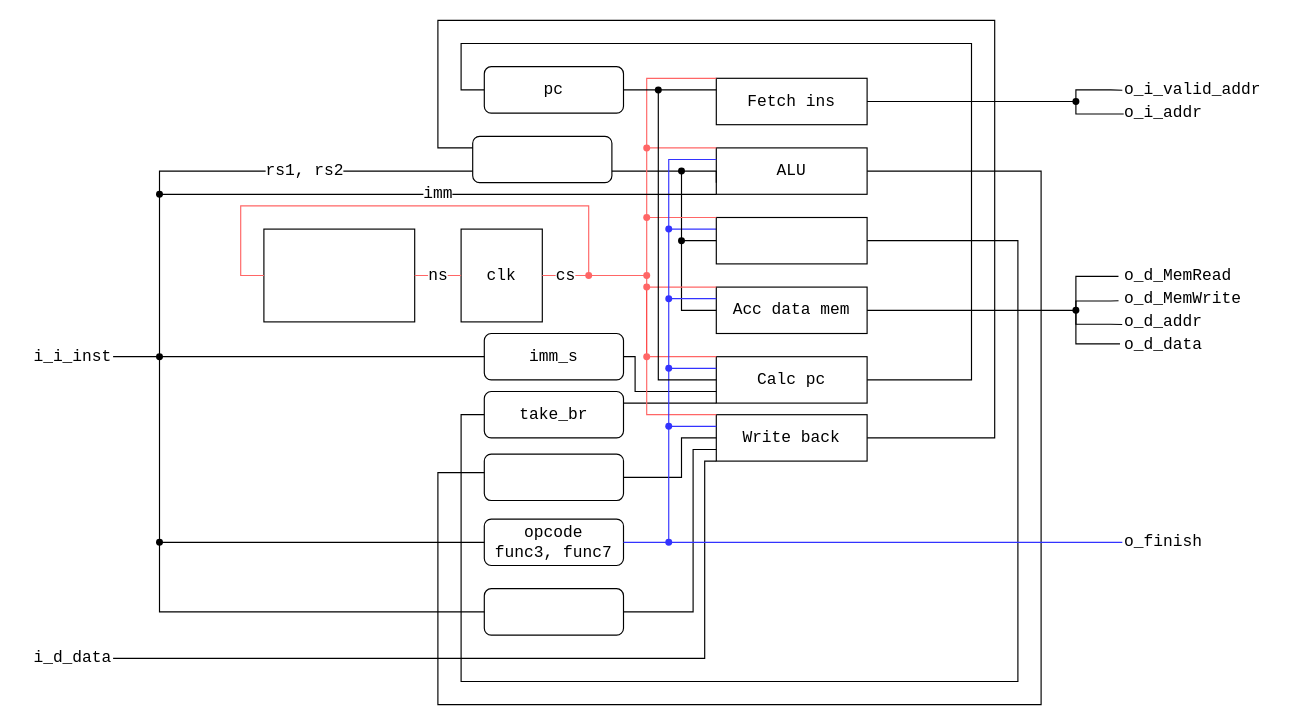
Some shapes in this 1292 by 726 pixel diagram are drawn without their labels. The shapes that lost their labels are listed below. From the top down, each one's centre as x and y in pixels, then its label:
At point 542,159: "reg_file".
At point 791,240: "Compare".
At point 339,275: "next state logic".
At point 553,477: "alu_res".
At point 553,611: "rd".
